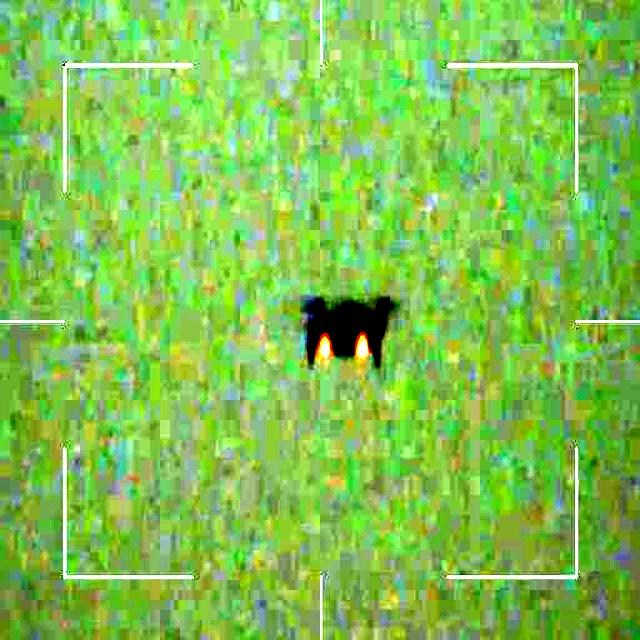bird: (304, 296, 394, 362)
